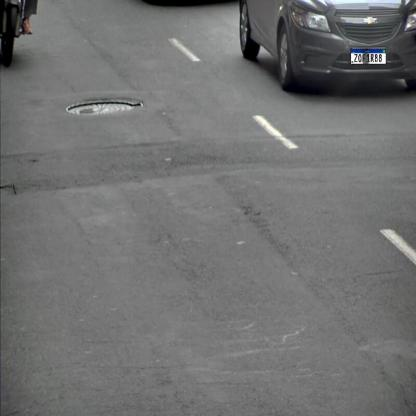PlacaM: (350, 48, 386, 64)
